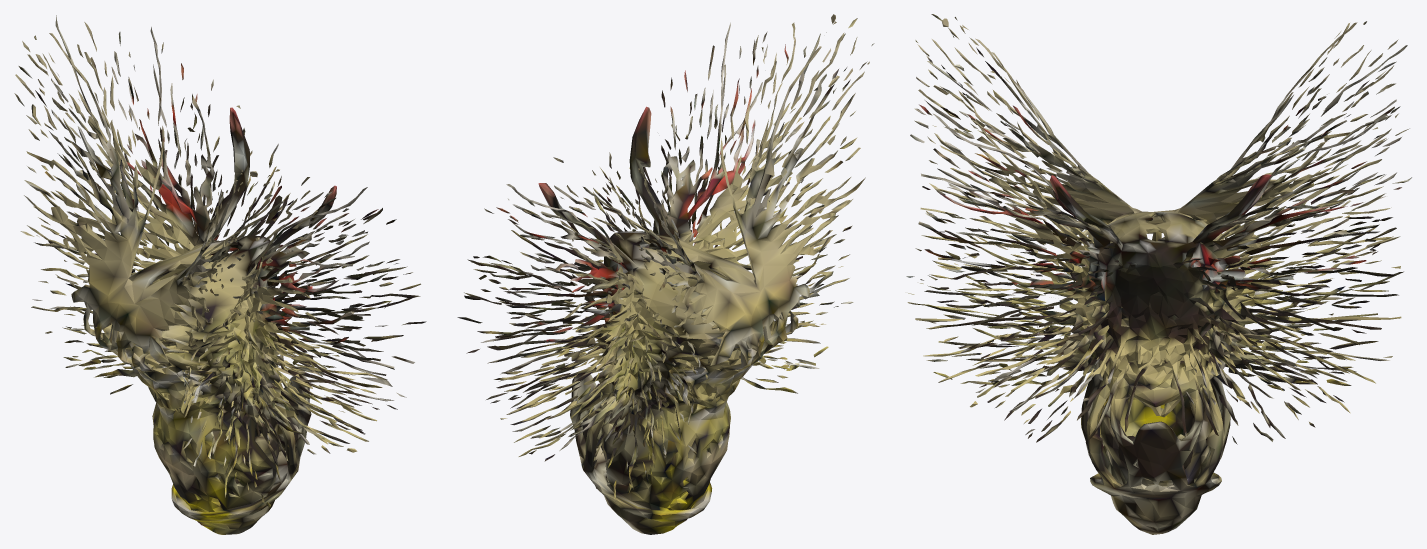
File: rabbit.glb
3 views of the same model, side by side, from view 1: azimuth 30°, elevation 25°; view 2: azimuth 150°, elevation 25°; view 3: azimuth 270°, elevation 25° (orthographic). The views are drawn at different scales.
Visible parts, largest first — view 1: world; view 2: world; view 3: world.
Part boxes in pixels (x1,y1,x2,y2): world: (14, 15, 426, 534); world: (457, 14, 874, 534); world: (906, 14, 1411, 534).
Size of the model in its own units: 0.5214 by 1 by 0.9771.
